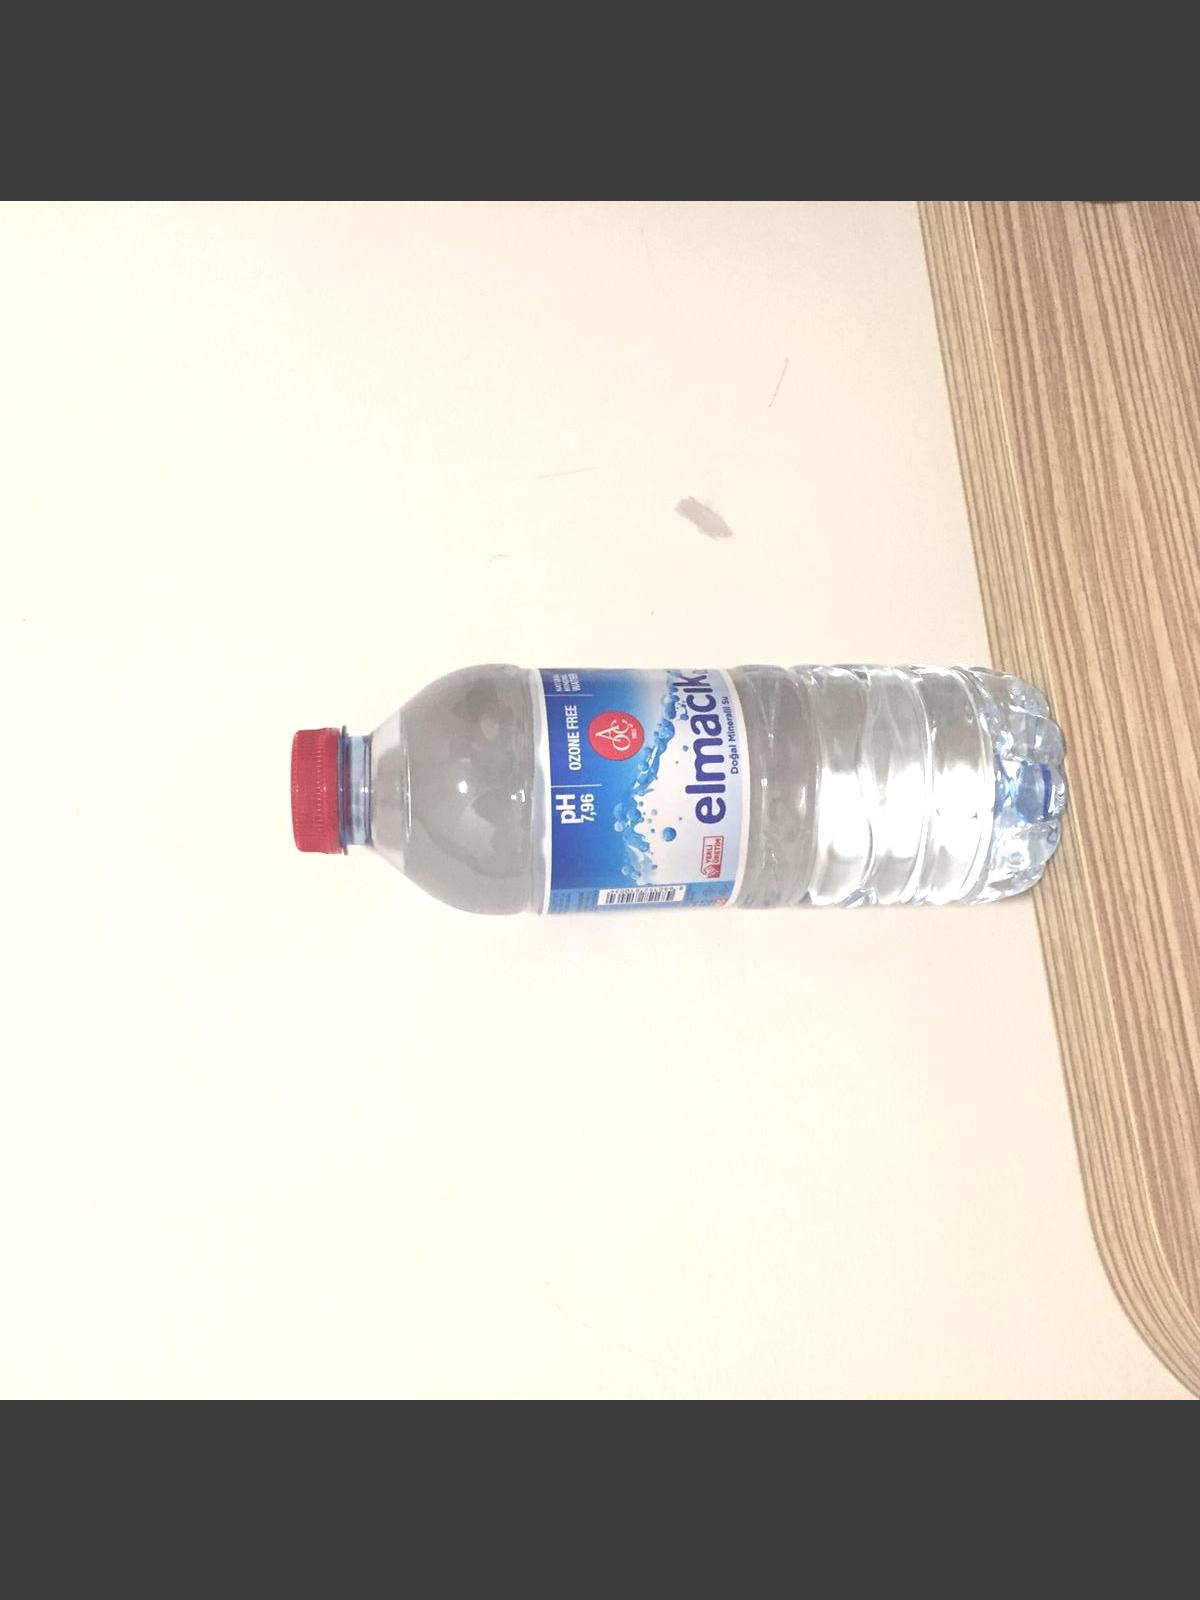bottle: (284, 664, 1070, 936)
